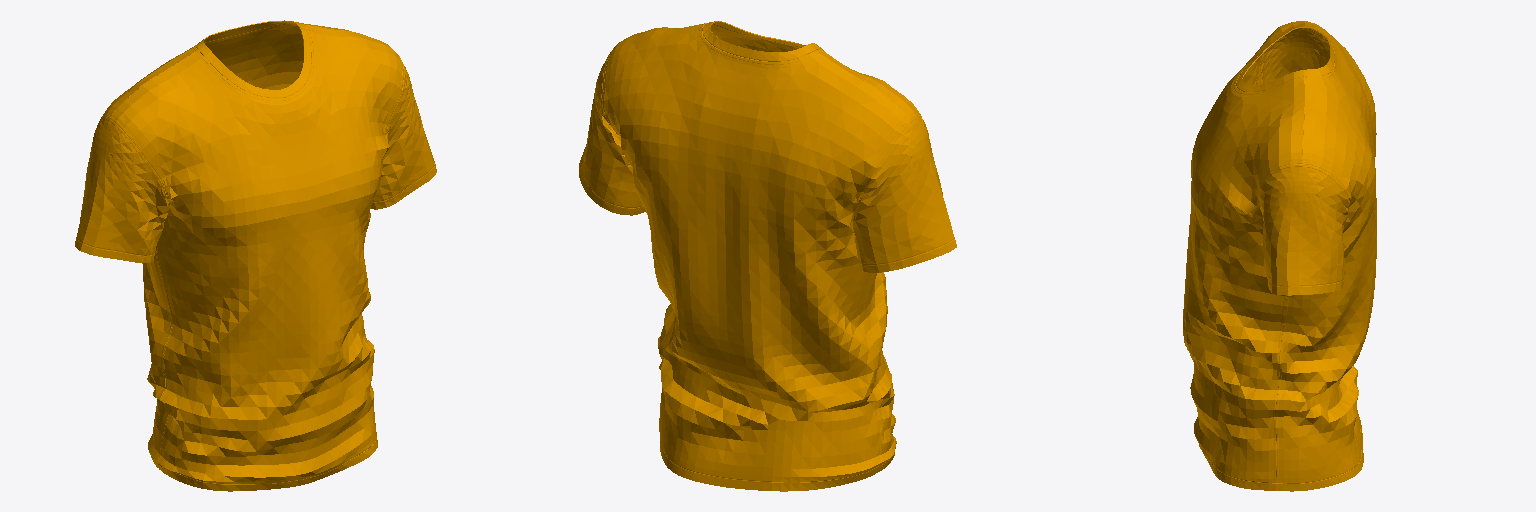
URDF robot description (mesh_object):
<robot name="mesh_object">
            <link name="base">
                <visual>
                    <geometry>
                        <mesh filename="jersey_2.obj" scale="1 1 1" />
                    </geometry>
                </visual>
                <collision>
                    <geometry>
                        <mesh filename="jersey_2.obj" scale="1 1 1" />
                    </geometry>
                </collision>
                <inertial>
                    <origin xyz="0.000000 0.000000 0.027097" rpy="0 0 0" />
                    <mass value="0.5" />
                    <inertia ixx="0.01" iyy="0.01" izz="0.01" ixy="0" ixz="0" iyz="0" />
                </inertial>
            </link>
            </robot>

--- What the picture shows (computed from the rendered views, not written in the file) ---
Views: 3 orthographic renders of the robot side by side, from view 1: azimuth 30°, elevation 25°; view 2: azimuth 150°, elevation 25°; view 3: azimuth 270°, elevation 25°.
Model mesh_object with 1 links and 0 joints (none), rooted at base, posed every joint at zero.
Visible links, largest first — view 1: base; view 2: base; view 3: base.
Link boxes in pixels (x1,y1,x2,y2): base: [75, 20, 436, 491]; base: [579, 21, 956, 491]; base: [1183, 21, 1376, 491].
Size in the robot's own frame: 0.0488 by 0.0238 by 0.0542 metres.
Meshes: 1 distinct files referenced, 1 mesh visuals loaded (1 OBJ).
